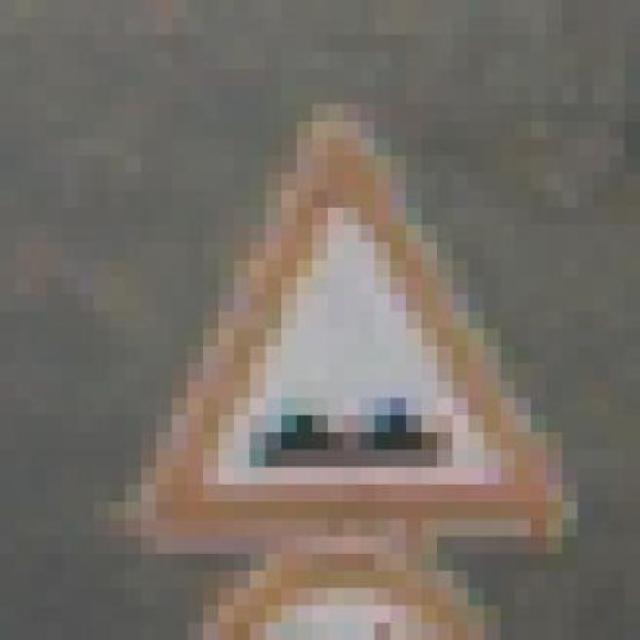Uneven Road: (108, 86, 578, 537)
